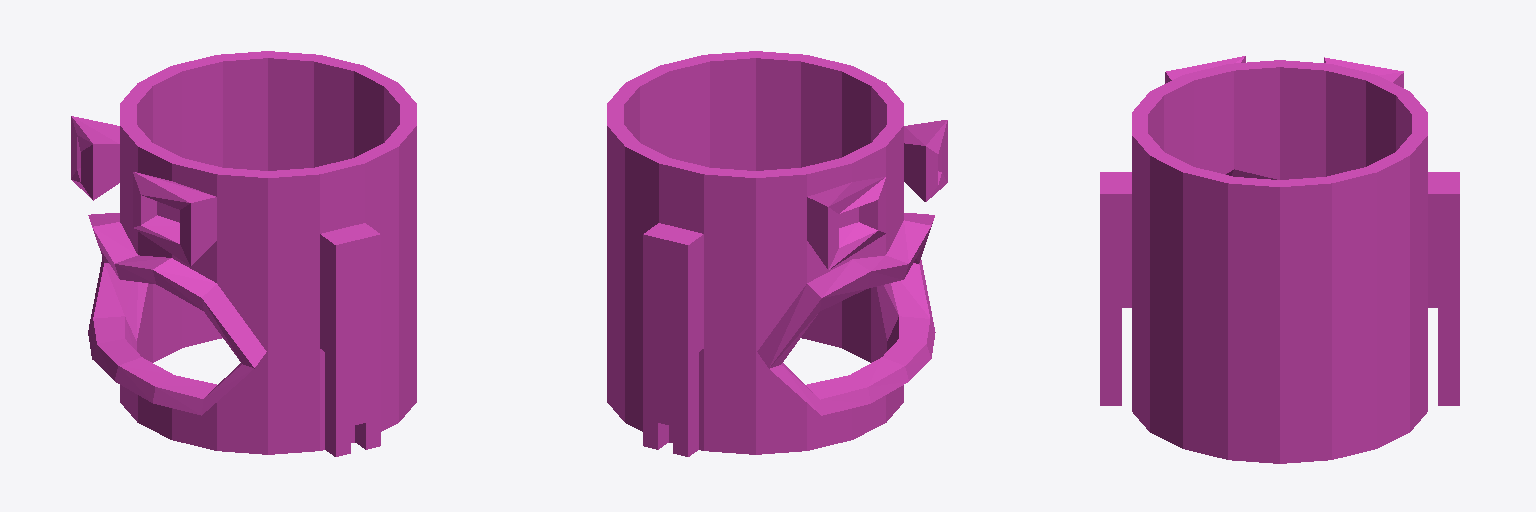
Rendered from middle.obj.
3 renders of one model, left to right at view 1: azimuth 30°, elevation 25°; view 2: azimuth 150°, elevation 25°; view 3: azimuth 270°, elevation 25°, orthographic.
Visible parts, largest first — view 1: Cylinder004; view 2: Cylinder004; view 3: Cylinder004.
Part boxes in pixels (x1,y1,x2,y2): Cylinder004: (71, 51, 416, 456); Cylinder004: (607, 51, 947, 456); Cylinder004: (1100, 56, 1459, 463).
Bounding box in the file's own units: 3.45 × 3.19 × 3.76.